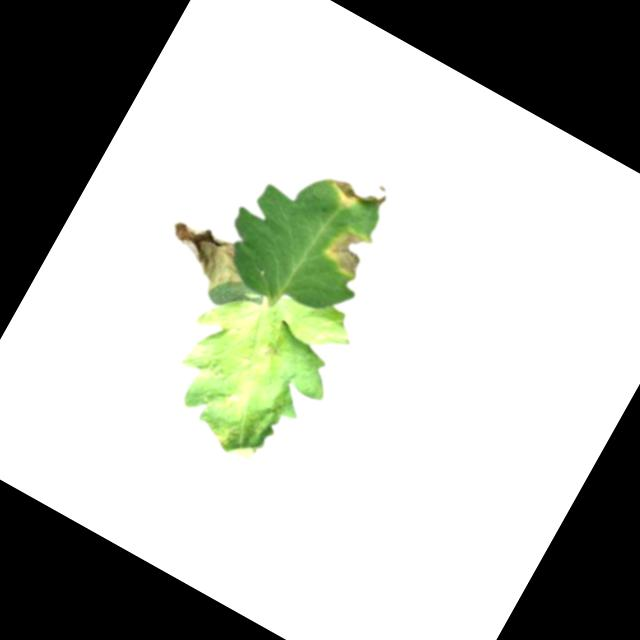Late_blight: (151, 208, 259, 304), (316, 219, 378, 283), (324, 163, 390, 222), (252, 334, 288, 369), (209, 418, 243, 452), (217, 386, 246, 417)
